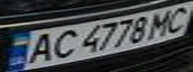4: (78, 22, 103, 55)
7: (115, 16, 139, 47), (100, 19, 121, 51)
8: (127, 14, 157, 44)
A: (18, 30, 60, 65)
C: (45, 27, 81, 61), (160, 3, 193, 35)
M: (145, 9, 178, 38)
